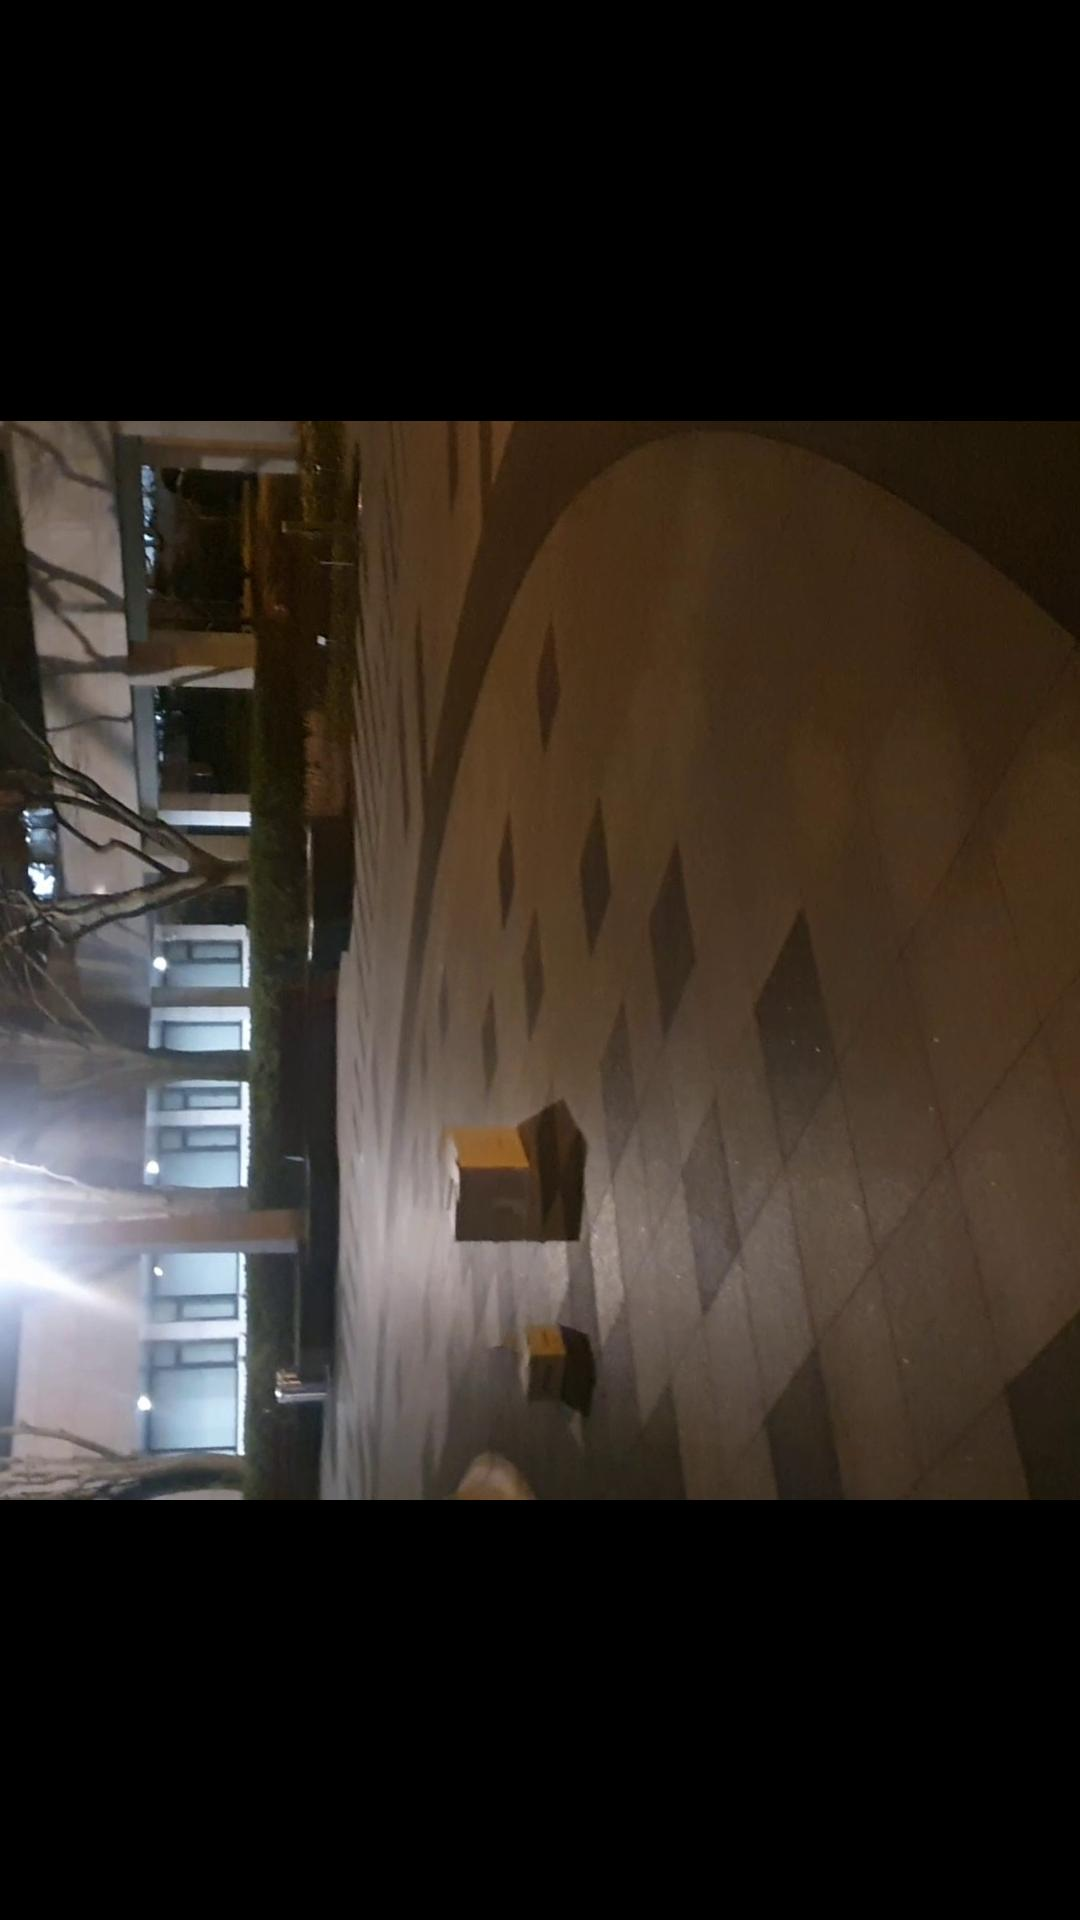Box: (438, 1112, 553, 1254), (516, 1331, 582, 1407)
